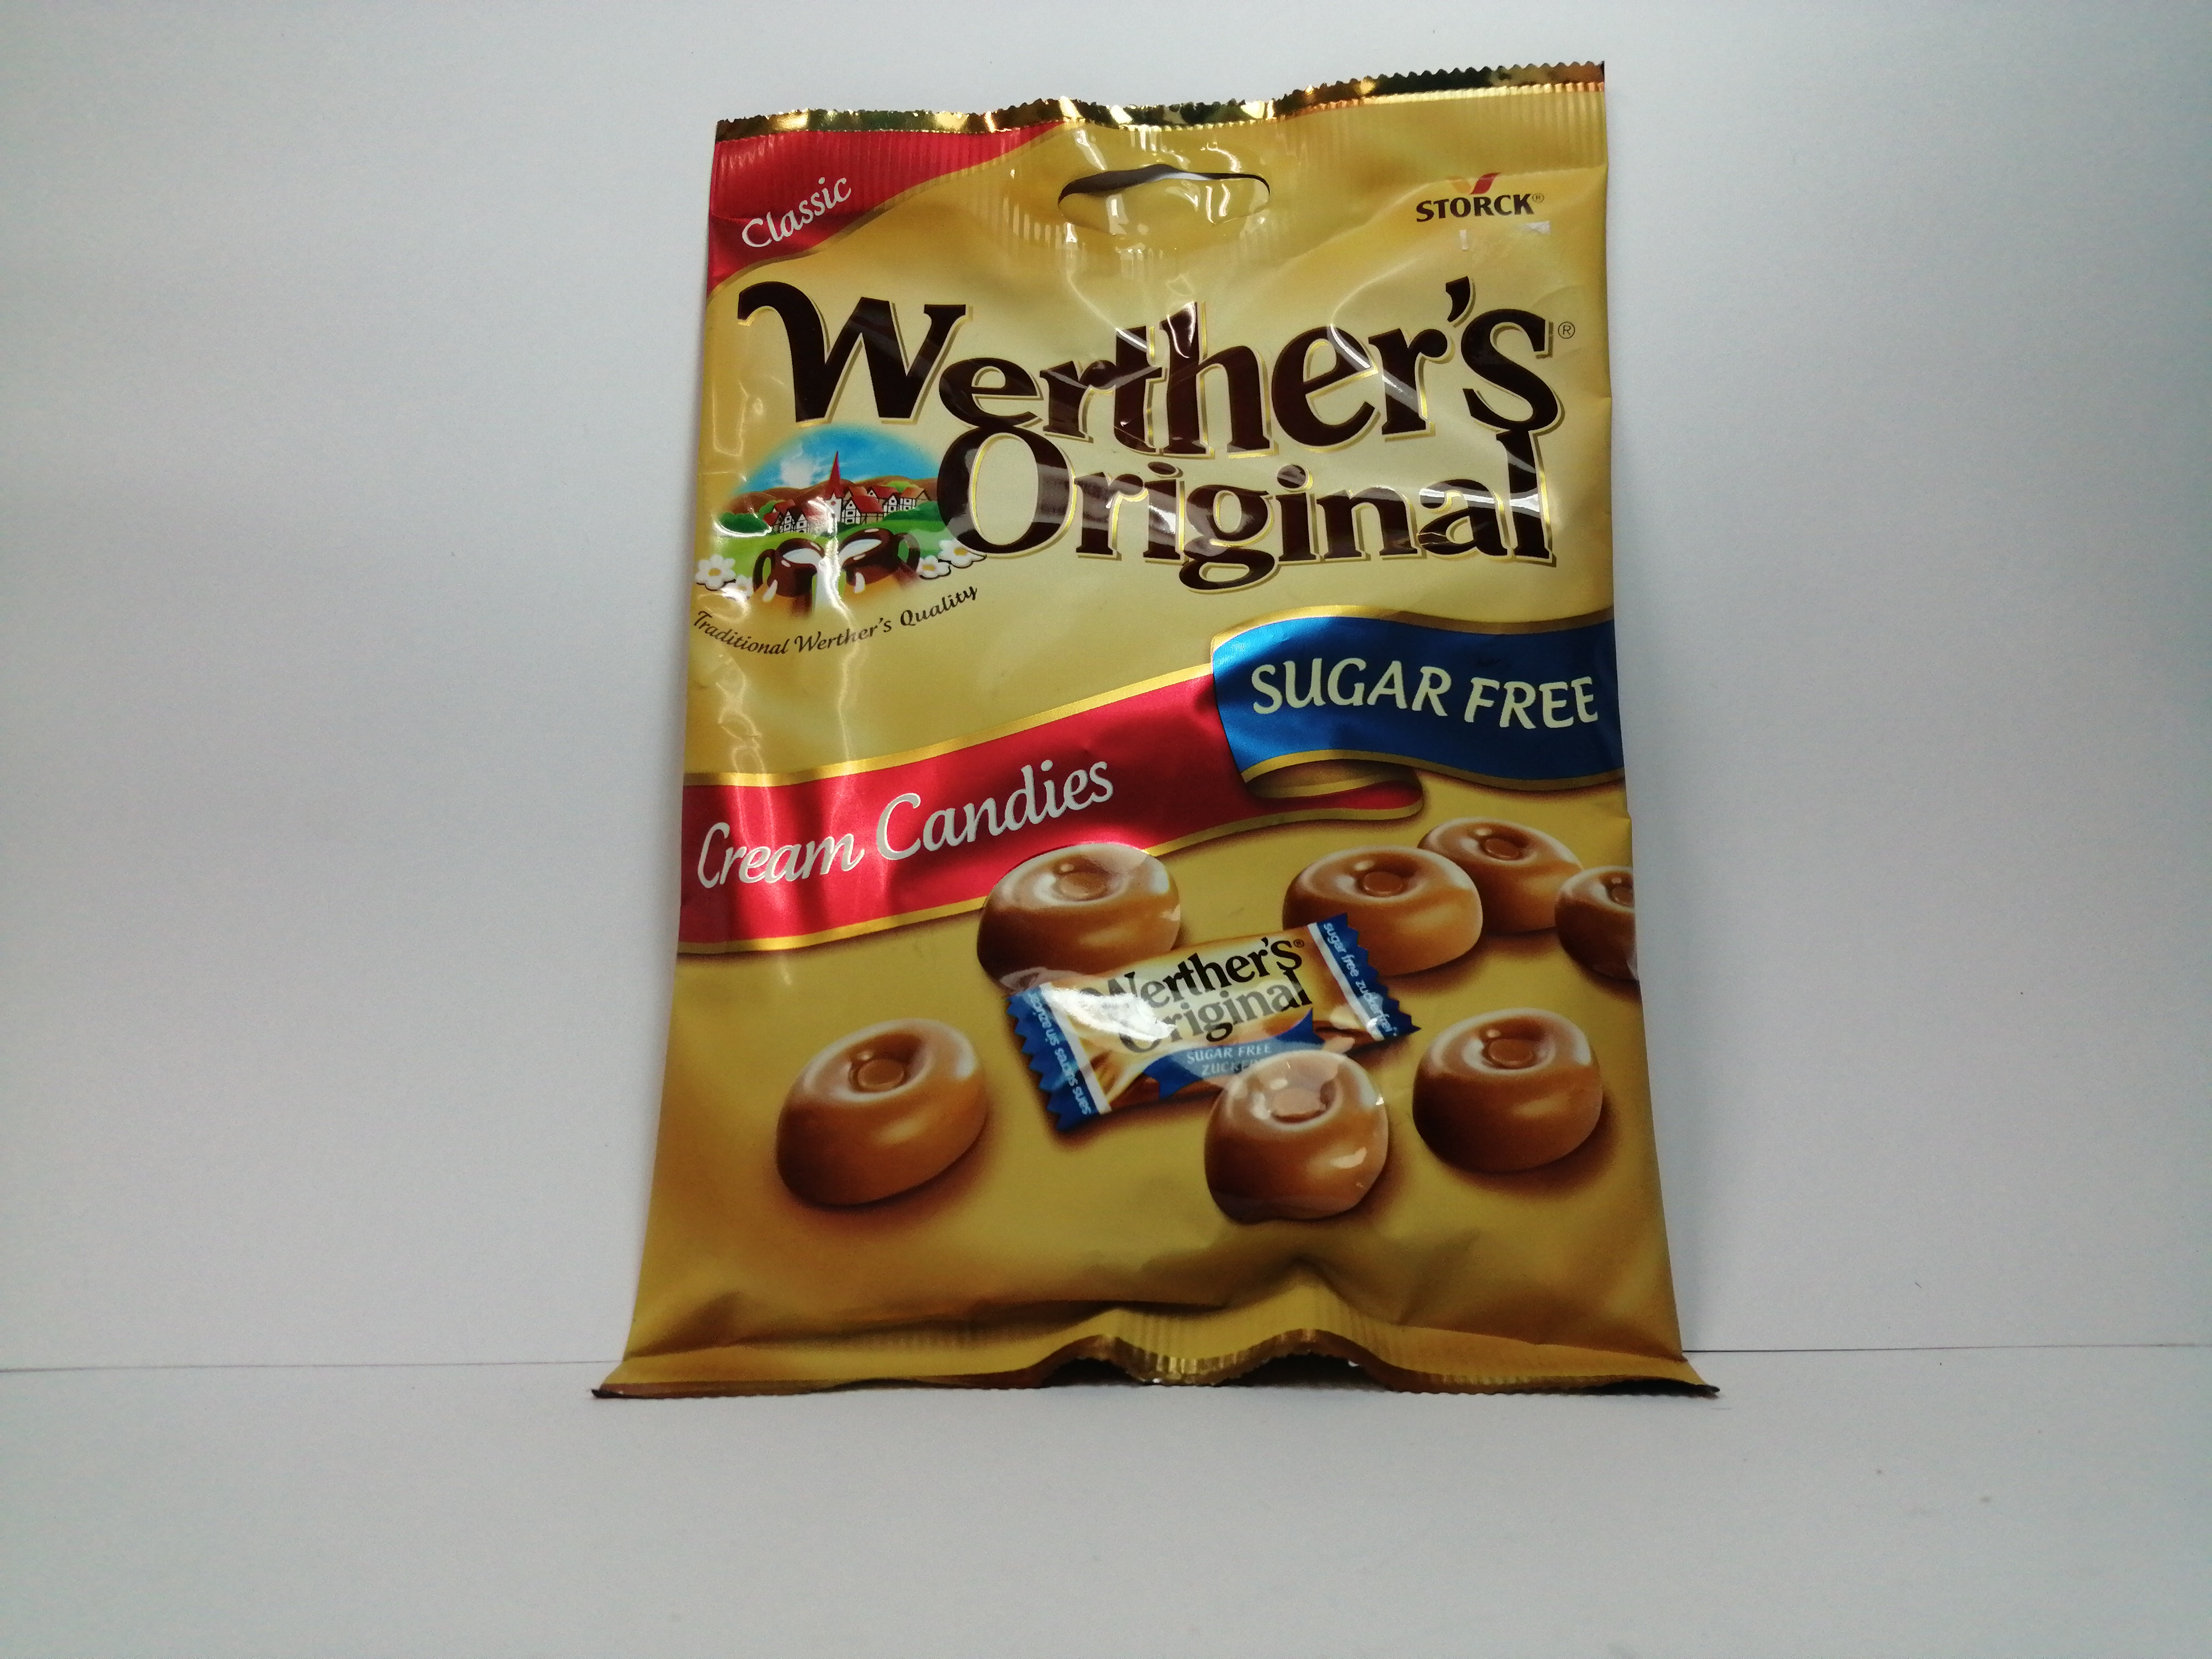dulces: (596, 71, 1716, 1401)
